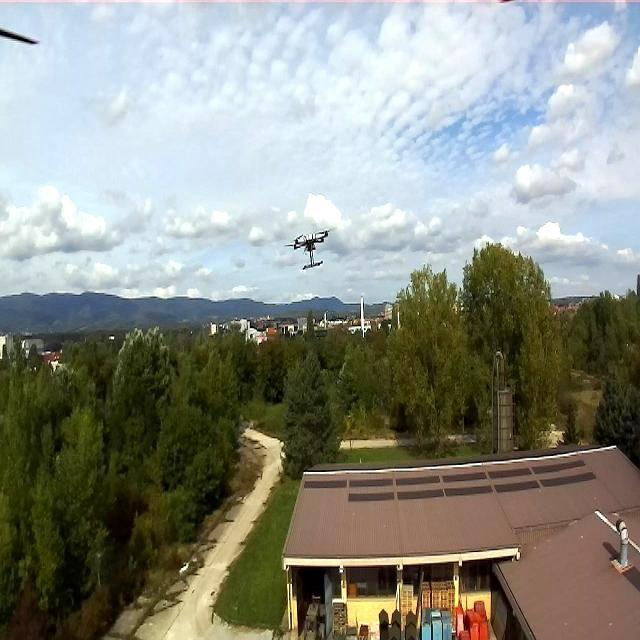drone: (290, 226, 330, 274)
